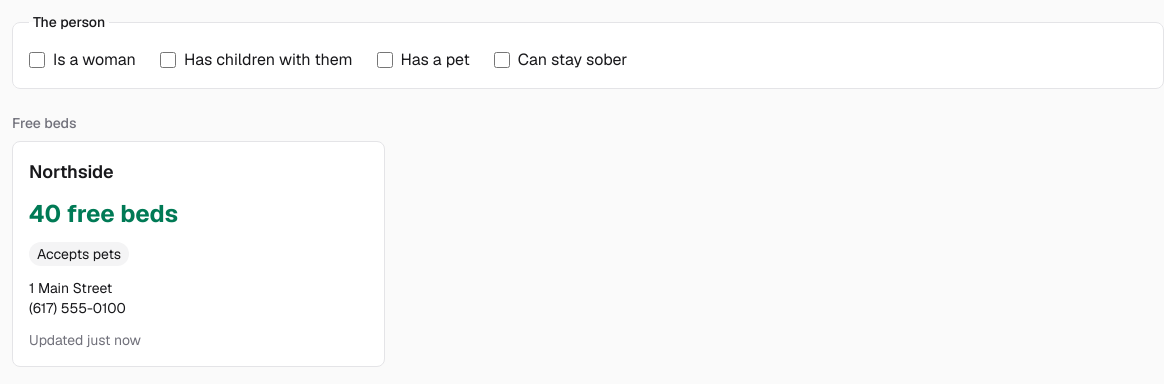
Test: ShelterBoard › says so when no shelter would take the person
What coordinates should you click on to do the following:
click the checkbox labelled "Has children with them"
I would click on:
 (168, 60)
Its box is [160,52,176,68].
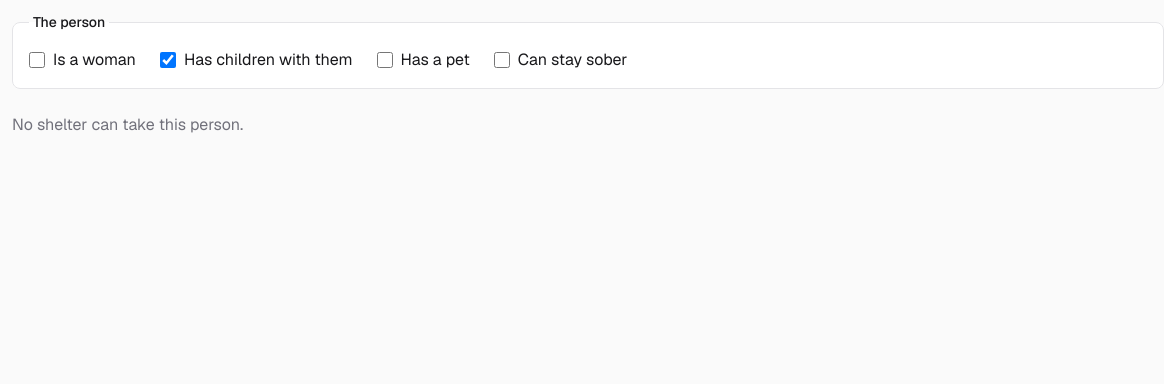
expect the text "No shelter can take this person." is shown: met, box [12,114,243,135]
